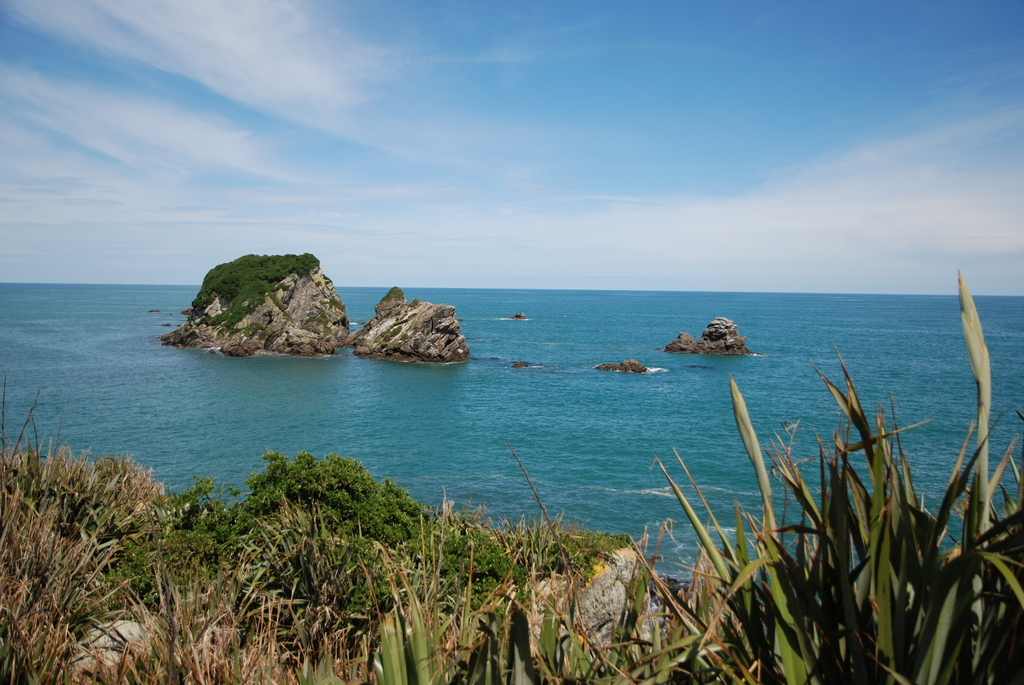Tree: (198, 440, 519, 598)
